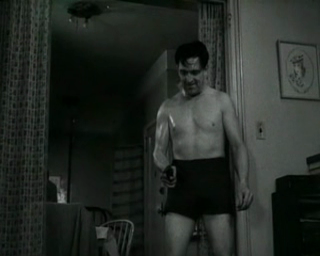face: (178, 62, 204, 97)
mls: (1, 1, 320, 256)
person: (152, 40, 254, 256)
